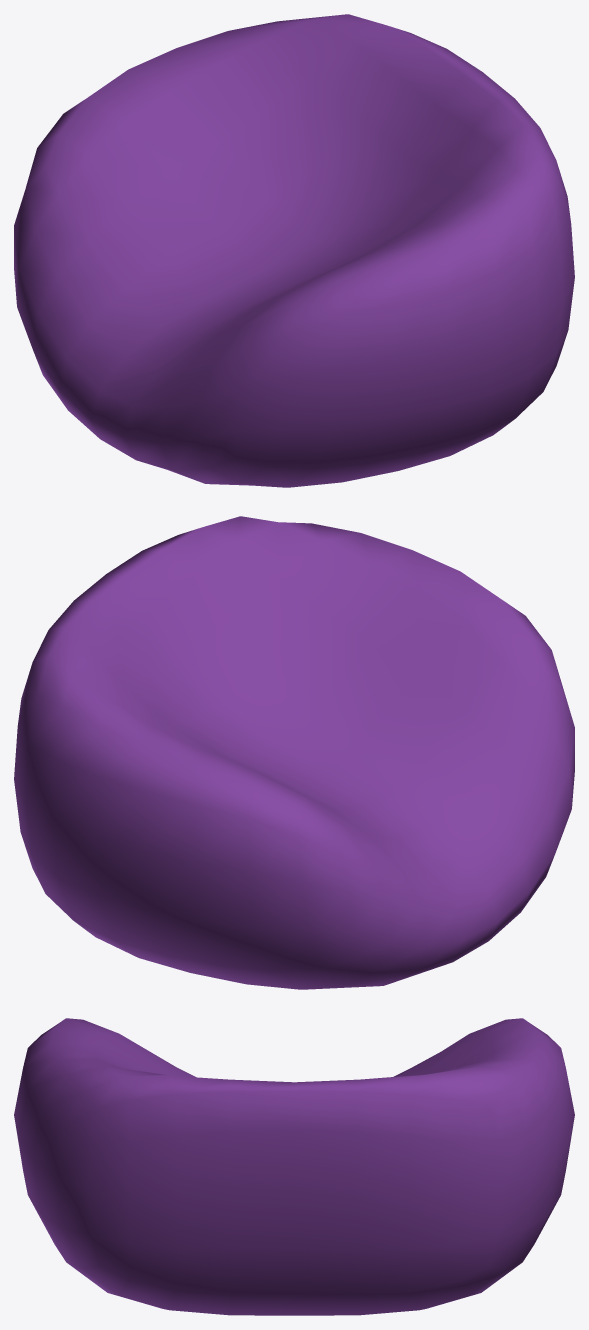
The model's file is beanbag_01_purple.fbx.
3 views of the same model, one above another, from view 1: azimuth 30°, elevation 25°; view 2: azimuth 150°, elevation 25°; view 3: azimuth 270°, elevation 25° (orthographic). The views are drawn at different scales.
Parts seen in each view (by area): view 1: beanbag_01_purple; view 2: beanbag_01_purple; view 3: beanbag_01_purple.
Boxes of the visible parts, box(x1,y1,x2,y2) form: beanbag_01_purple: box(14, 14, 574, 487); beanbag_01_purple: box(14, 516, 574, 989); beanbag_01_purple: box(14, 1018, 574, 1315).
Bounding box in the file's own units: 84.93 × 60.58 × 112.
Materials: 1 (1 with a texture image).
